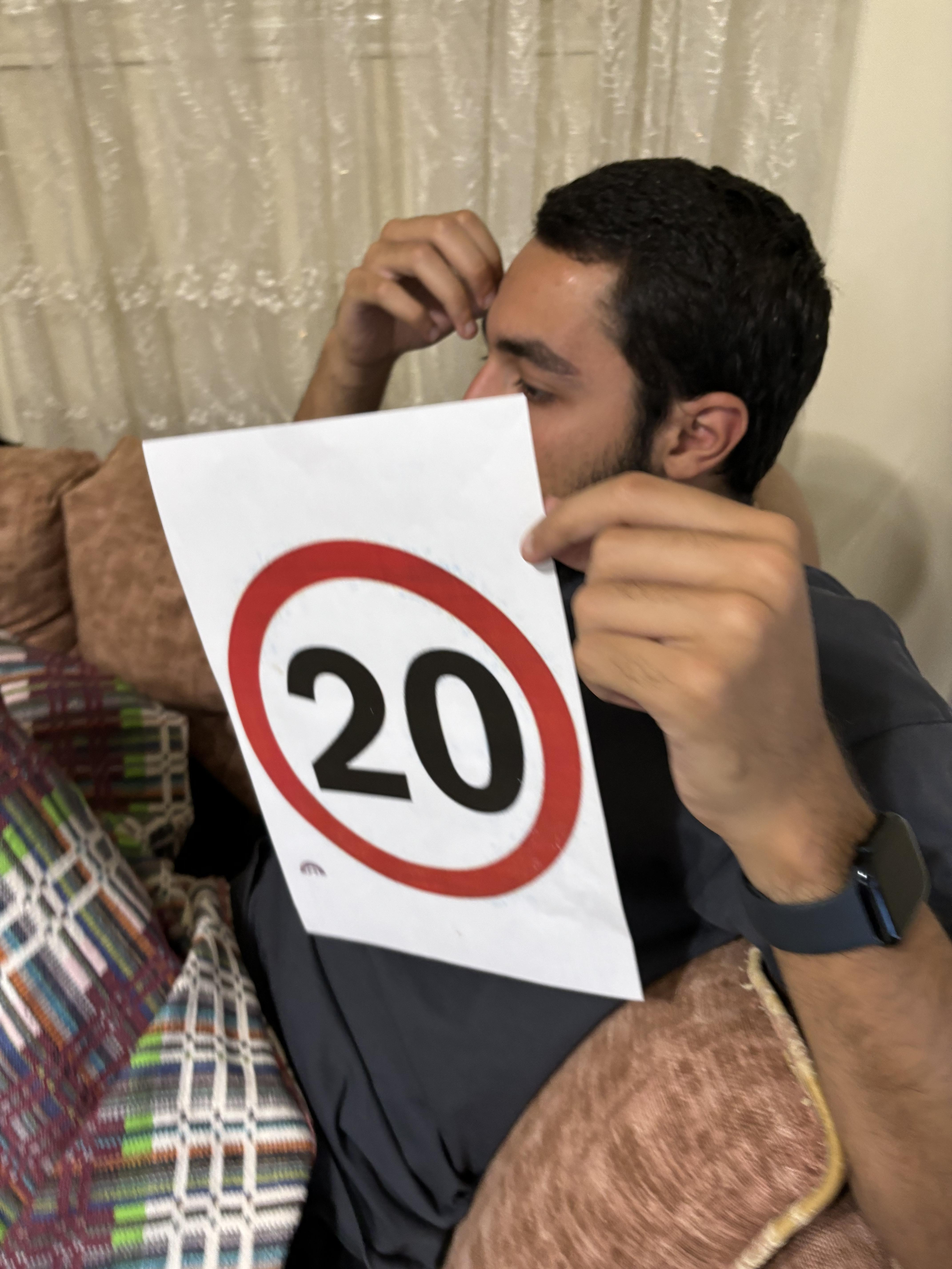20-Speed: (218, 529, 578, 893)
